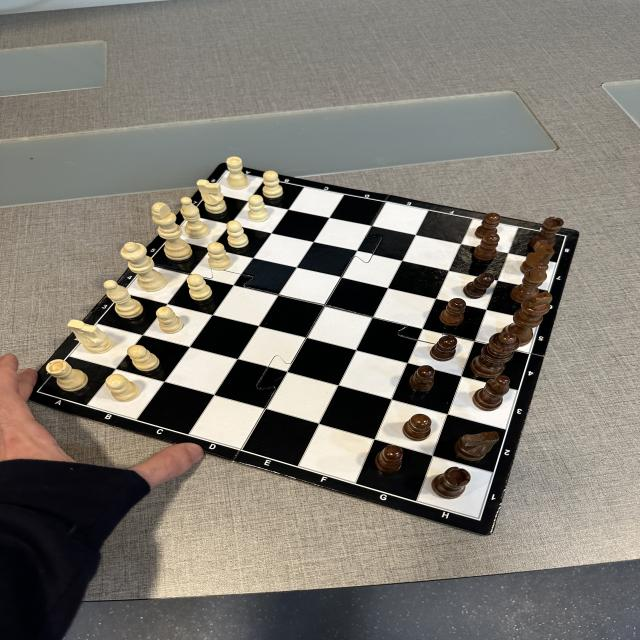Black-Bishop: (511, 262, 548, 302), (472, 376, 510, 412)
Black-King: (502, 292, 554, 346)
Black-Knight: (454, 431, 501, 462), (520, 239, 555, 273)
Black-Pawn: (375, 444, 404, 473), (402, 414, 432, 441), (464, 272, 494, 299), (409, 365, 436, 393), (440, 298, 467, 326), (430, 335, 457, 361), (474, 234, 499, 262), (475, 212, 499, 240)
Black-Queen: (470, 332, 520, 379)
Black-Rook: (431, 466, 470, 499), (531, 216, 564, 241)
White-Bishop: (103, 279, 144, 319), (180, 196, 211, 239)
White-King: (150, 201, 193, 261)
White-Knight: (67, 319, 113, 353), (196, 179, 227, 214)
White-Pawn: (105, 374, 140, 402), (127, 345, 160, 371), (155, 306, 184, 335), (186, 274, 213, 302), (207, 242, 232, 270), (226, 220, 250, 248), (262, 170, 284, 198), (248, 194, 269, 222)
White-Queen: (120, 242, 168, 292)
White-Rook: (45, 359, 88, 391), (225, 156, 250, 190)
